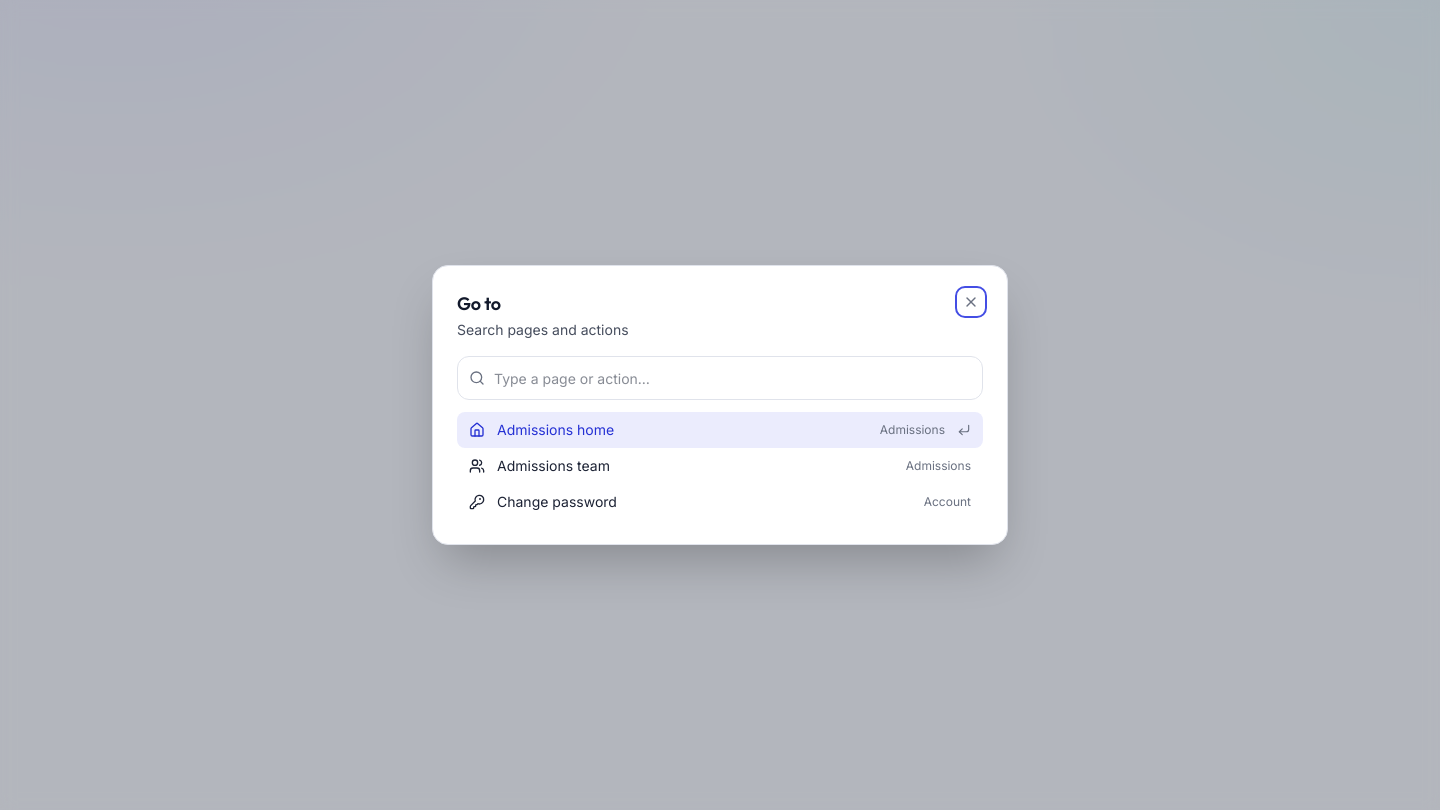
Test: CommandPalette › says when nothing matches
Type "zzz" into the dropdown at [720, 378], box x1=457 y1=356 x2=983 y2=400
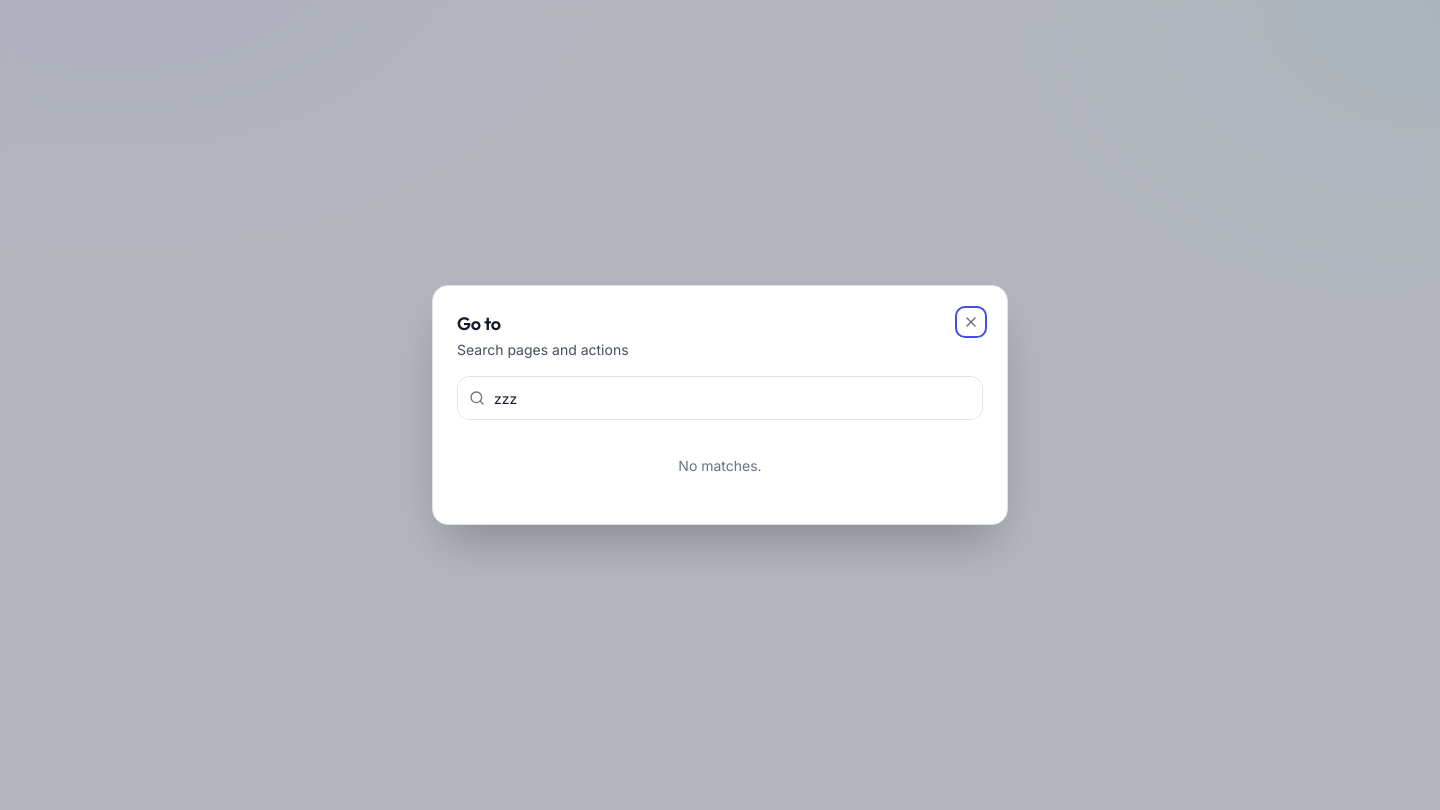
Expected: the list item "No matches." is shown, x1=678 y1=457 x2=762 y2=474
